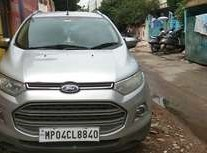MP04CL8840: (39, 126, 99, 142)
